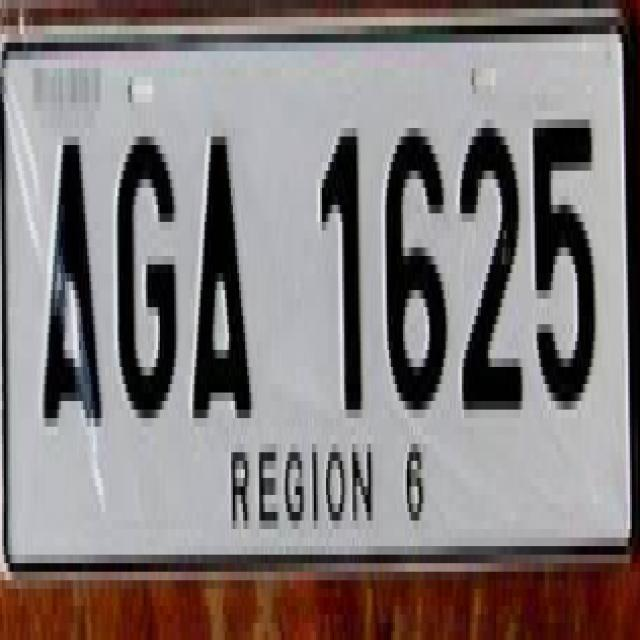1: (313, 94, 369, 432)
5: (530, 104, 602, 418)
6: (379, 83, 449, 421)
A: (37, 112, 104, 457), (188, 115, 258, 425)
G: (112, 104, 184, 427)
